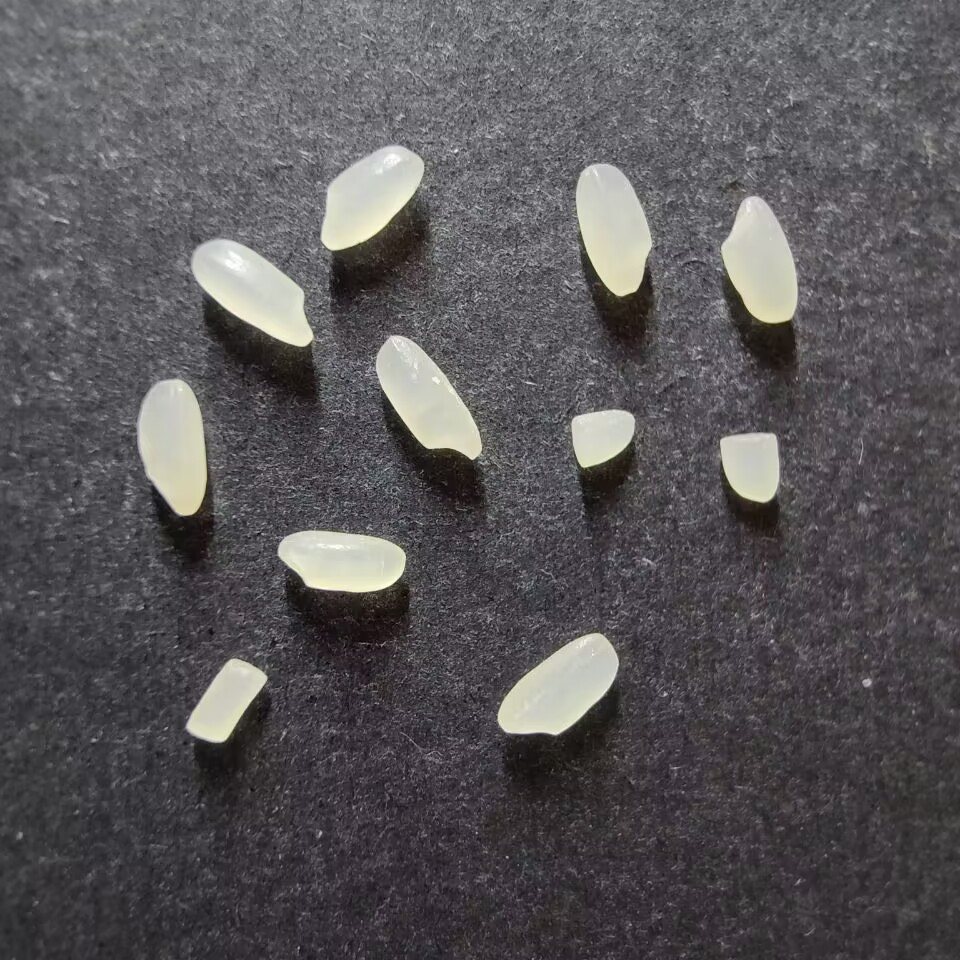broken: (185, 658, 267, 742), (719, 432, 780, 502), (570, 409, 635, 468)
rice: (375, 334, 482, 460), (191, 238, 313, 346), (496, 632, 619, 736), (320, 145, 423, 250), (575, 163, 651, 296), (720, 196, 797, 323), (137, 379, 206, 515), (277, 530, 405, 592)
